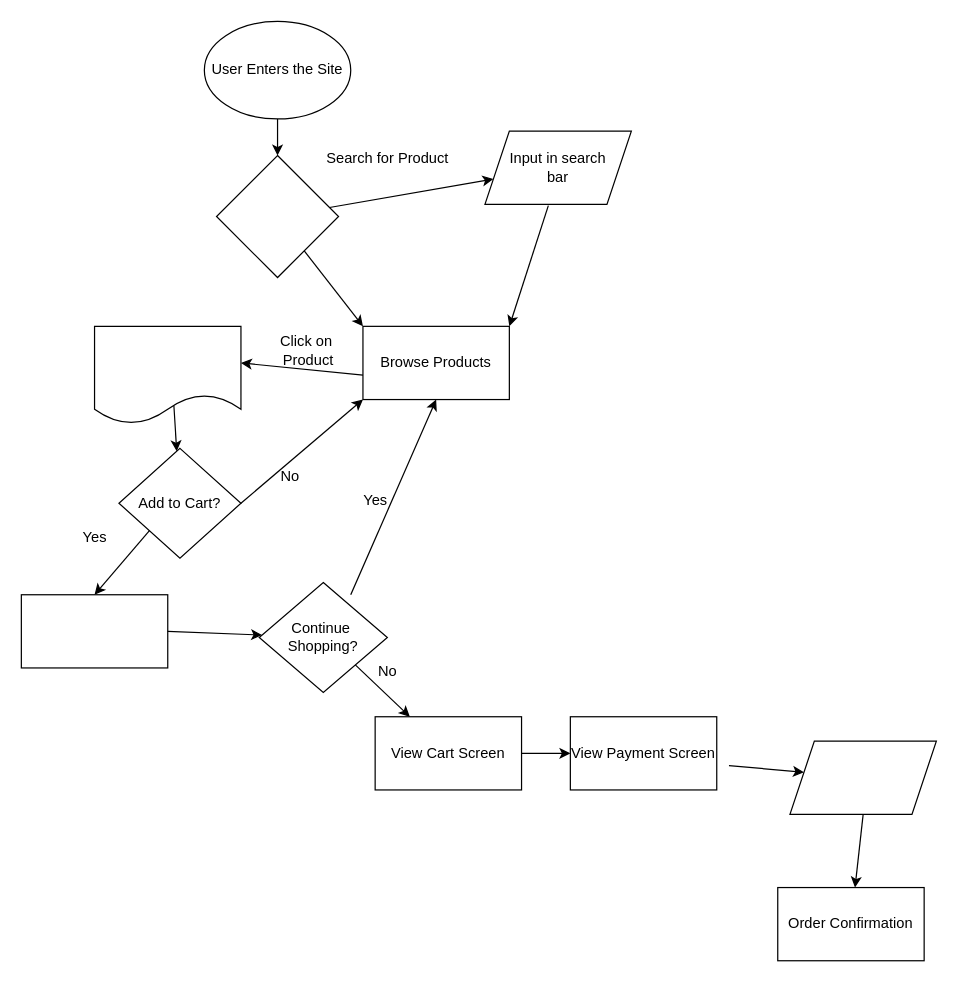
Image size: 958x982. Some labels were removed from this diagram. The shapes that lost their labels are listed below. From the top down, each one's centre as x and y in pixels, then its label:
the point at 277,216: Search or Stay on Home page
the point at 167,374: Info about Chosen Product
the point at 94,631: Confirmation
the point at 862,777: Input Payment Information
